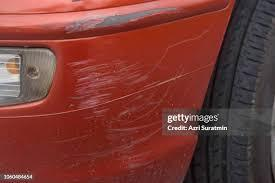scratch: (47, 1, 215, 181)
